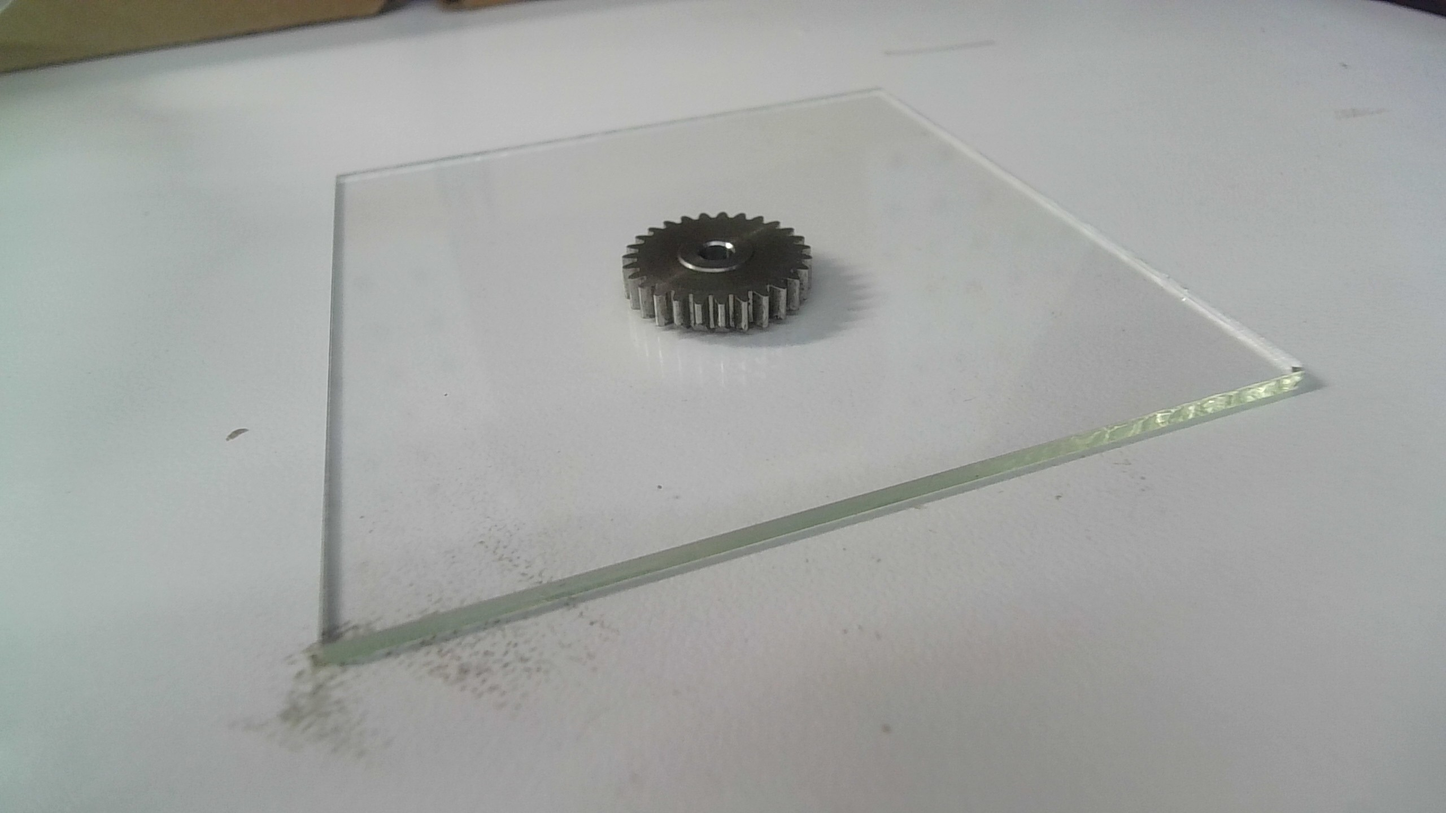gear: (619, 204, 817, 335)
